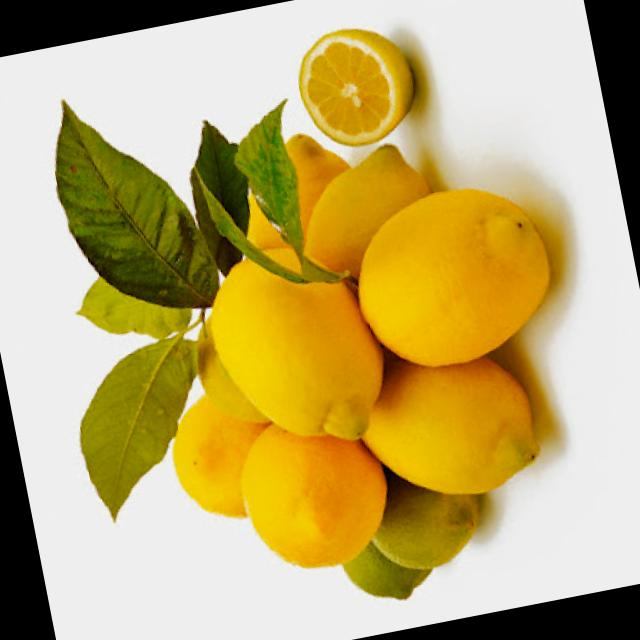lemon: (337, 169, 573, 384), (347, 334, 566, 524), (203, 237, 383, 460), (228, 418, 398, 580), (285, 17, 427, 158)
